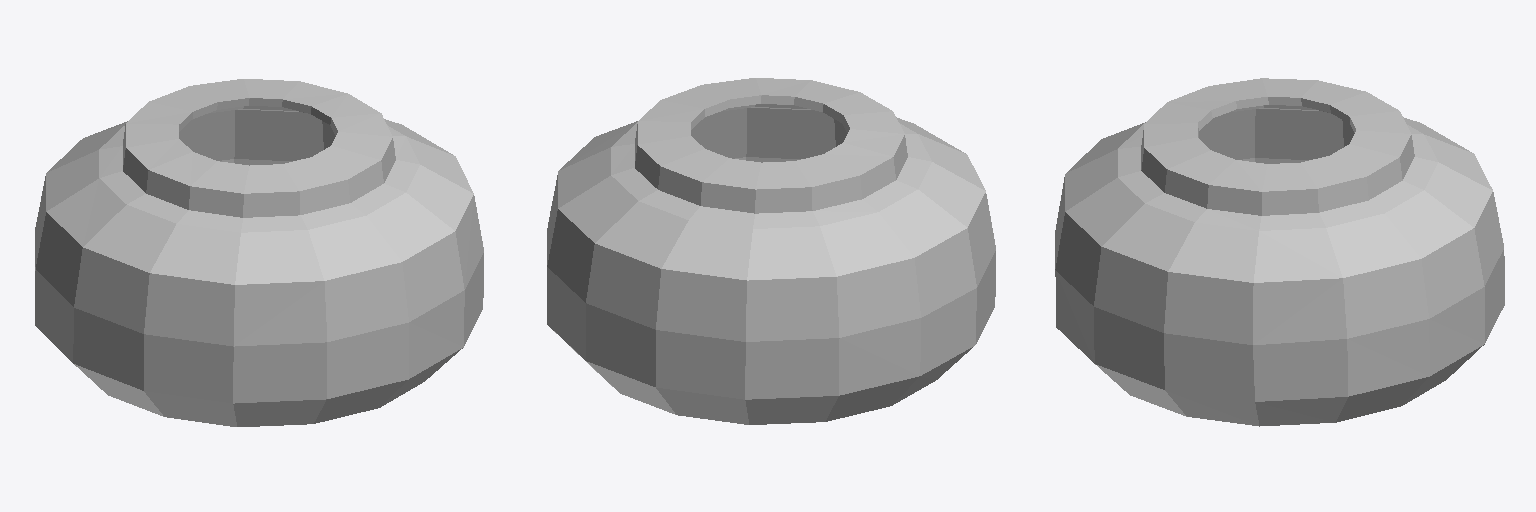
Rendered from FishBowl.obj.
3 views of the same model, side by side, from view 1: azimuth 30°, elevation 25°; view 2: azimuth 150°, elevation 25°; view 3: azimuth 270°, elevation 25° (orthographic).
Visible parts, largest first — view 1: nurbsToPoly2; view 2: nurbsToPoly2; view 3: nurbsToPoly2.
Boxes of the visible parts, x1,y1,x2,y2 form: nurbsToPoly2: [35, 79, 483, 426]; nurbsToPoly2: [547, 78, 995, 424]; nurbsToPoly2: [1055, 78, 1504, 426].
Size of the model in its own units: 27.65 by 16.99 by 27.51.